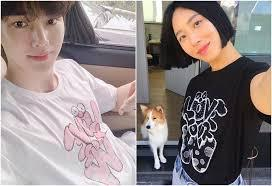Tshirt: (2, 56, 134, 186), (171, 56, 272, 186)
